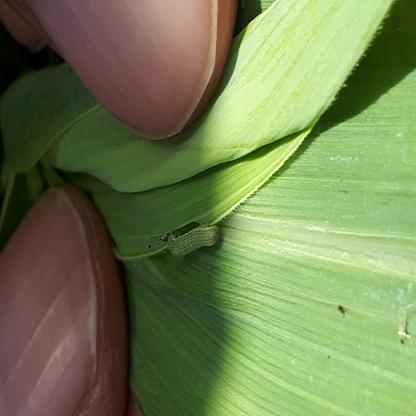armyworm: (86, 279, 113, 398)
